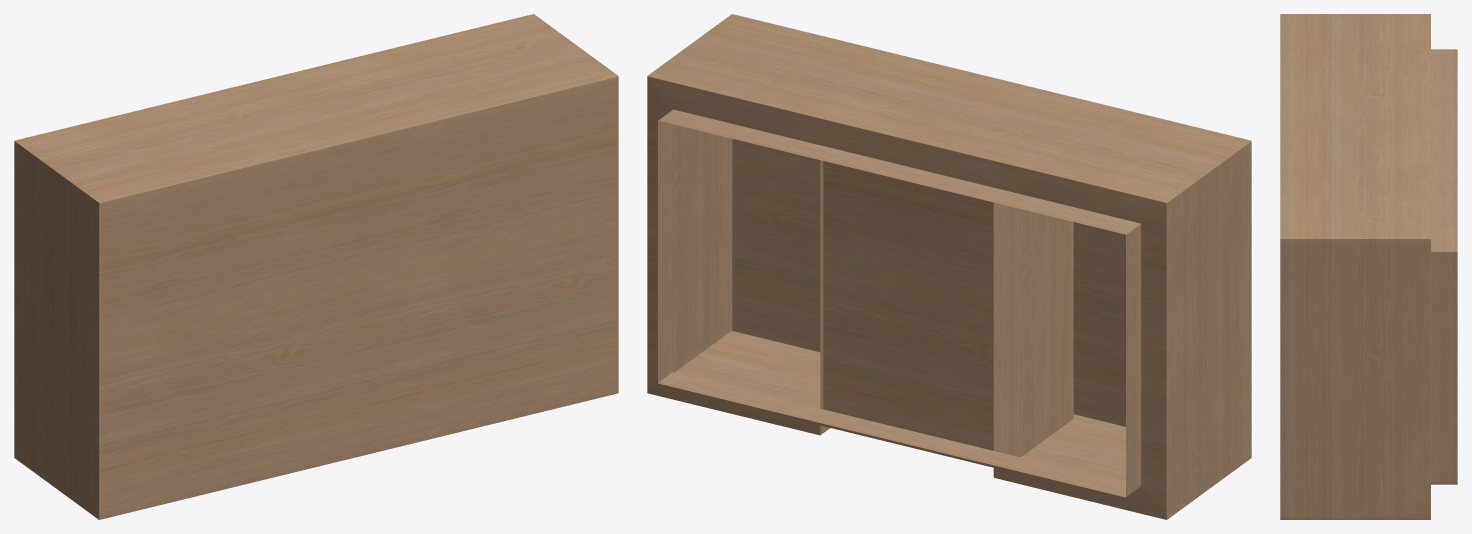
File: SM_Couchtisch.obj
3 views of the same model, side by side, from view 1: azimuth 30°, elevation 25°; view 2: azimuth 150°, elevation 25°; view 3: azimuth 270°, elevation 25° (orthographic). The views are drawn at different scales.
Visible parts, largest first — view 1: SM_Couchtisch; view 2: SM_Couchtisch; view 3: SM_Couchtisch.
Part boxes in pixels (box(x1,y1,x2,y2)): SM_Couchtisch: box(14, 14, 618, 519); SM_Couchtisch: box(647, 14, 1251, 519); SM_Couchtisch: box(1280, 14, 1457, 519).
Size of the model in its own units: 1.2 by 0.7 by 0.4.
1 material, 1 textured.
